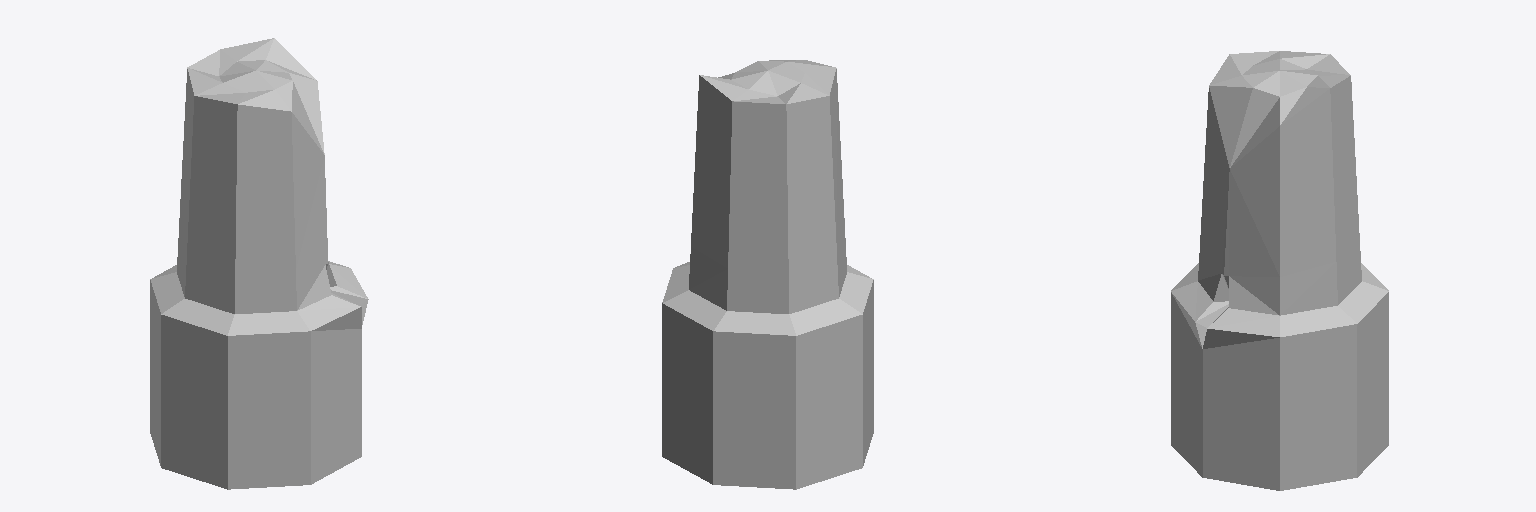
Rendered from WOH_Broken_Pillar_Low1.obj.
3 renders of one model, left to right at view 1: azimuth 30°, elevation 25°; view 2: azimuth 150°, elevation 25°; view 3: azimuth 270°, elevation 25°, orthographic.
Visible parts, largest first — view 1: WOH_Broken_Pillar_Low1; view 2: WOH_Broken_Pillar_Low1; view 3: WOH_Broken_Pillar_Low1.
Boxes of the visible parts, x1=… form: WOH_Broken_Pillar_Low1: x1=150, y1=38, x2=368, y2=489; WOH_Broken_Pillar_Low1: x1=662, y1=60, x2=873, y2=489; WOH_Broken_Pillar_Low1: x1=1171, y1=51, x2=1388, y2=490.
Size of the model in its own units: 7.22 by 13.76 by 7.22.